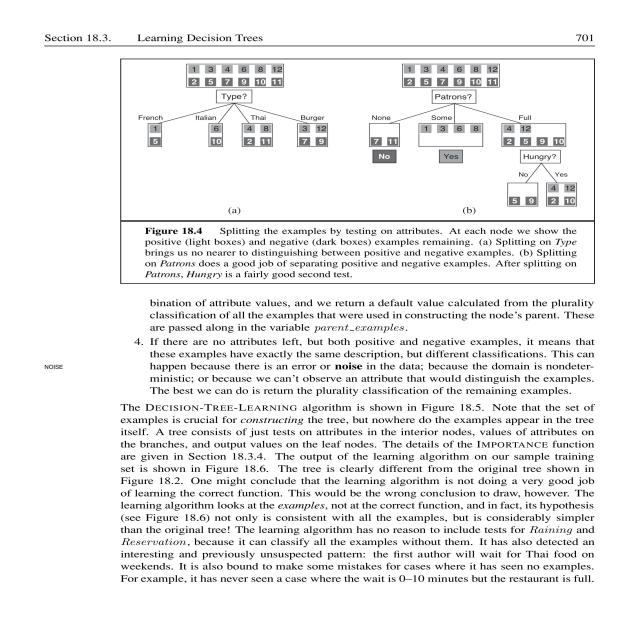diagram: (87, 51, 640, 286)
